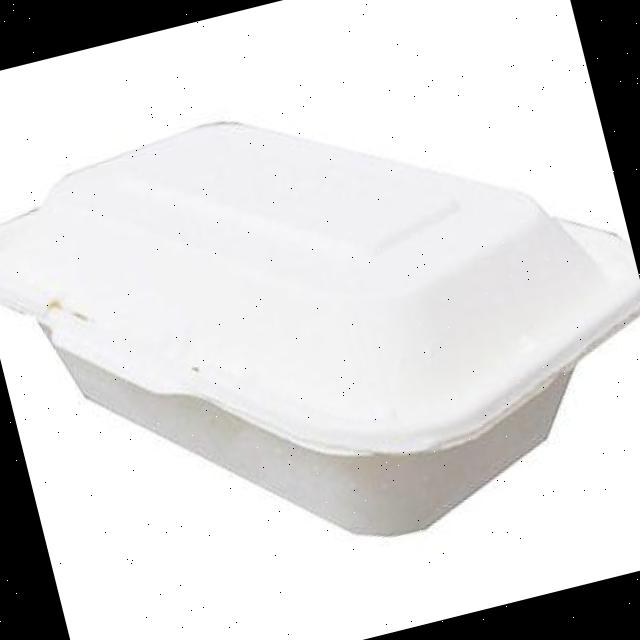styrofoam: (0, 25, 640, 619)
